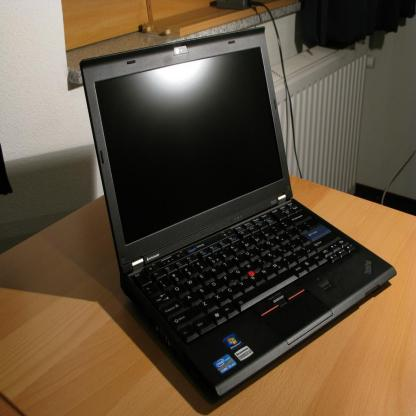board: (78, 28, 397, 398)
